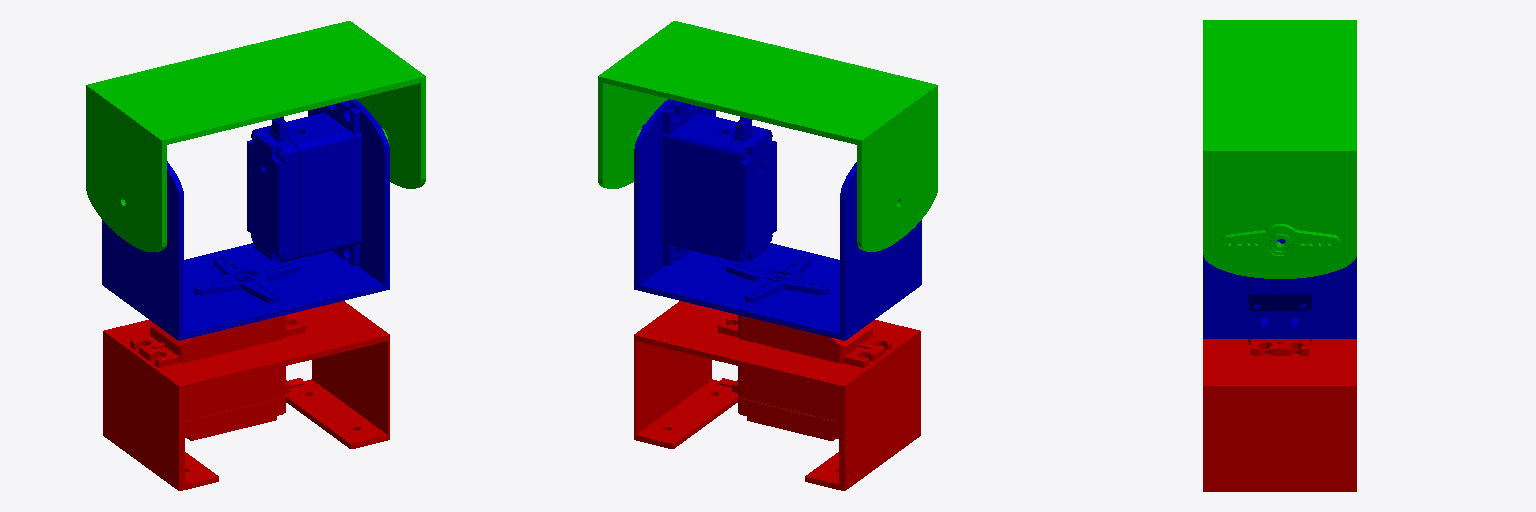
URDF robot description (myrobot):
<?xml version="1.0" ?>
<!-- =================================================================================== -->
<!-- |    This document was autogenerated by xacro from myrobot.xacro                  | -->
<!-- |    EDITING THIS FILE BY HAND IS NOT RECOMMENDED                                 | -->
<!-- =================================================================================== -->
<robot name="myrobot" xmlns:xacro="http://ros.org/wiki/xacro">
  <material name="blue">
    <color rgba="0 0 .8 1"/>
  </material>
  <material name="red">
    <color rgba=".8 0 0 1"/>
  </material>
  <material name="green">
    <color rgba="0 .8 0 1"/>
  </material>
  <link name="base_link">
    <visual>
      <origin rpy="0 0 0" xyz="0 0 0"/>
      <geometry>
        <mesh filename="package://robot_description/urdf/meshes/base_link.stl" scale="0.01 0.01 0.01"/>
      </geometry>
      <material name="red"/>
    </visual>
    <collision>
      <origin rpy="0 0 0" xyz="0 0 0.275"/>
      <geometry>
        <box size="0.8 0.5 0.55"/>
      </geometry>
    </collision>
    <inertial>
      <mass value="10"/>
      <origin xyz="0 0 0"/>
      <inertia ixx="1.0" ixy="0.0" ixz="0.0" iyy="1.0" iyz="0.0" izz="1.0"/>
    </inertial>
  </link>
  <joint name="joint_pan" type="revolute">
    <parent link="base_link"/>
    <child link="pan_link"/>
    <origin rpy="0 0 0" xyz="0 0 0.6"/>
    <axis xyz="0 0 1"/>
    <limit effort="10" lower="-1.57" upper="1.57" velocity="0.5"/>
    <dynamics damping="0.7"/>
  </joint>
  <link name="pan_link">
    <visual>
      <origin rpy="0 0 0" xyz="0 0 -0.05"/>
      <geometry>
        <mesh filename="package://robot_description/urdf/meshes/pan_link.stl" scale="0.01 0.01 0.01"/>
      </geometry>
      <material name="blue"/>
    </visual>
    <collision>
      <origin rpy="0 0 0" xyz="0 0 0.25"/>
      <geometry>
        <box size="0.9 0.5 0.6"/>
      </geometry>
    </collision>
    <inertial>
      <mass value="10"/>
      <origin xyz="0 0 0"/>
      <inertia ixx="1.0" ixy="0.0" ixz="0.0" iyy="1.0" iyz="0.0" izz="1.0"/>
    </inertial>
  </link>
  <joint name="joint_tilt" type="revolute">
    <parent link="pan_link"/>
    <child link="tilt_link"/>
    <origin rpy="0 0 0" xyz="0 0 0.36"/>
    <axis xyz="1 0 0"/>
    <limit effort="10" lower="-1.57" upper="1.57" velocity="0.5"/>
    <dynamics damping="0.7"/>
  </joint>
  <link name="tilt_link">
    <visual>
      <origin rpy="0 0 0" xyz="0.05 0 0"/>
      <geometry>
        <mesh filename="package://robot_description/urdf/meshes/tilt_link.stl" scale="0.01 0.01 0.01"/>
      </geometry>
      <material name="green"/>
    </visual>
    <collision>
      <origin rpy="0 0 0" xyz="0 0 0.25"/>
      <geometry>
        <box size="1 0.5 0.6"/>
      </geometry>
    </collision>
    <inertial>
      <mass value="10"/>
      <origin xyz="0 0 0"/>
      <inertia ixx="1.0" ixy="0.0" ixz="0.0" iyy="1.0" iyz="0.0" izz="1.0"/>
    </inertial>
  </link>
  <!-- 

   <gazebo>
    <plugin name="gazebo_ros_control" filename="libgazebo_ros_control.so">
      <robotNamespace>/</robotNamespace>
    </plugin>
  </gazebo> -->
</robot>

--- Render facts (derived) ---
3 views of the same robot in one strip: view 1: azimuth 30°, elevation 25°; view 2: azimuth 150°, elevation 25°; view 3: azimuth 270°, elevation 25° (orthographic).
Robot: myrobot — 3 links, 2 joints (2 revolute); root link base_link; default pose: every joint at zero.
Visible links, largest first — view 1: pan_link, tilt_link, base_link; view 2: pan_link, tilt_link, base_link; view 3: tilt_link, base_link, pan_link.
Link boxes in pixels (box(x1,y1,x2,y2)): pan_link: box(102, 99, 389, 340); tilt_link: box(86, 21, 425, 251); base_link: box(103, 301, 389, 490); pan_link: box(634, 99, 921, 340); tilt_link: box(598, 21, 937, 251); base_link: box(634, 301, 920, 490); tilt_link: box(1203, 20, 1356, 278); base_link: box(1203, 339, 1356, 491); pan_link: box(1203, 239, 1356, 338).
Bounding box of the posed robot: 1.02 × 0.5 × 1.28 m (x, y, z).
3 mesh visuals loaded from 3 distinct referenced files (3 binary STL).